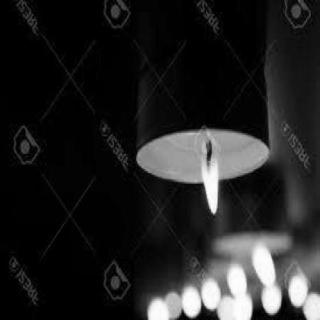Fire: (196, 139, 228, 225)
other: (144, 247, 317, 319)
